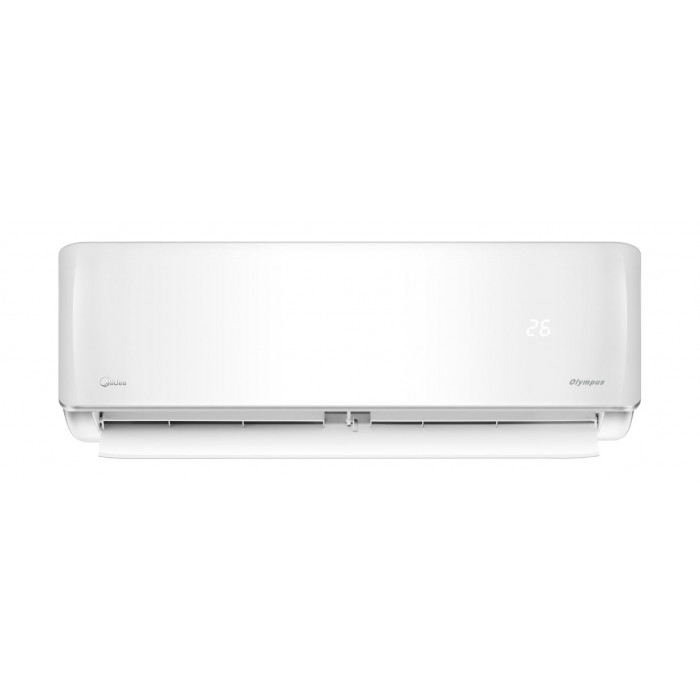ac: (50, 225, 659, 476)
